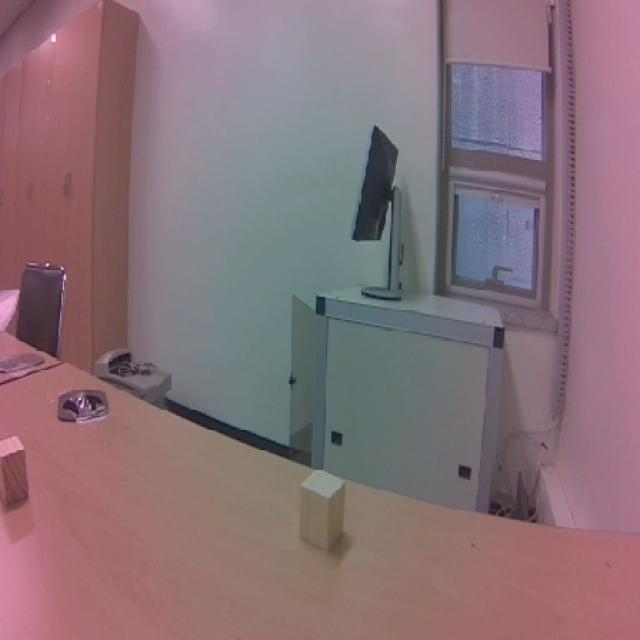obstacle: (290, 463, 356, 558)
